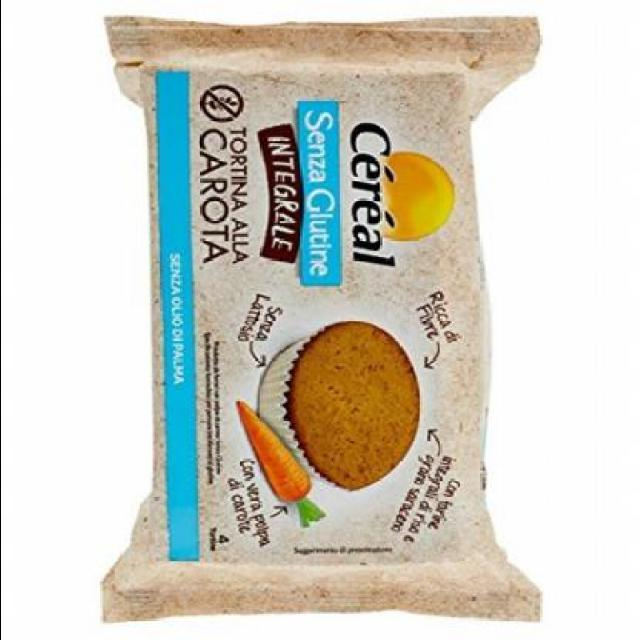Merendine: (78, 19, 524, 630)
